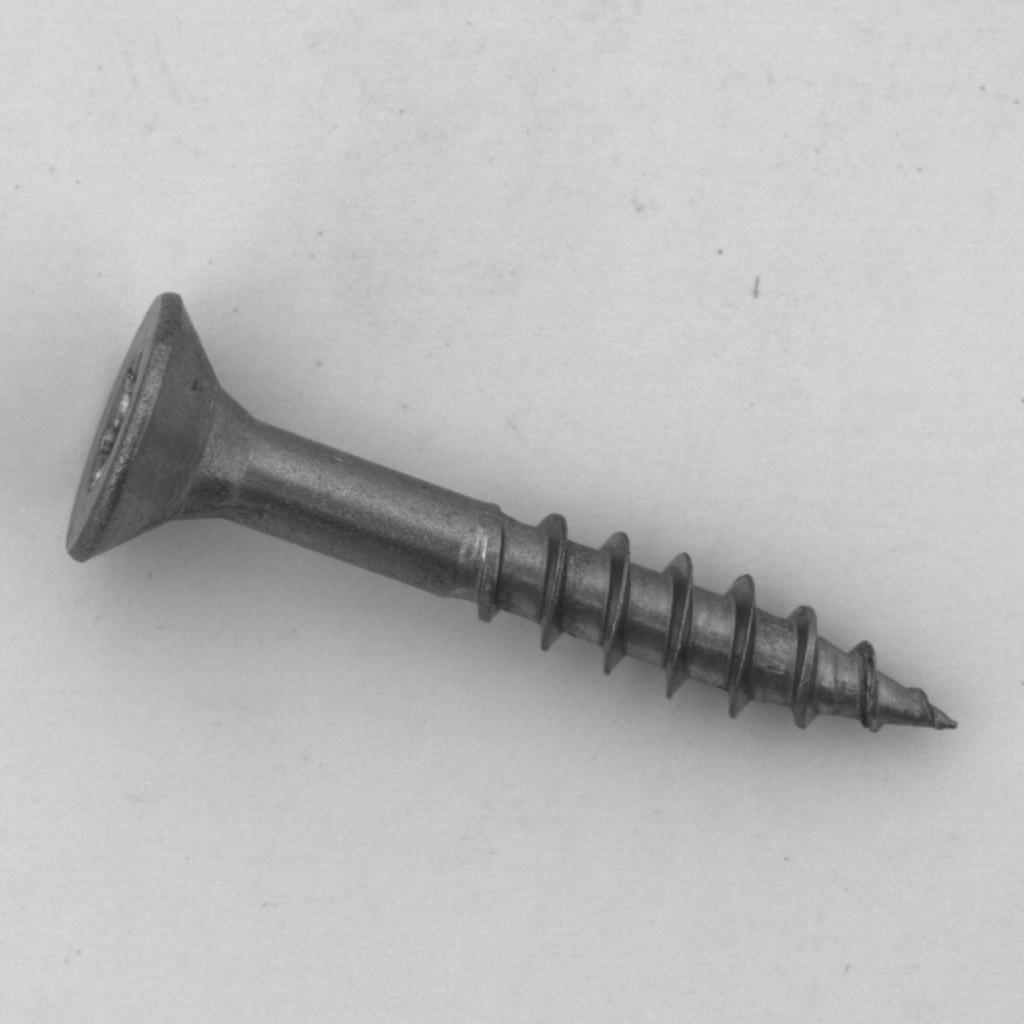good: (49, 271, 988, 760)
